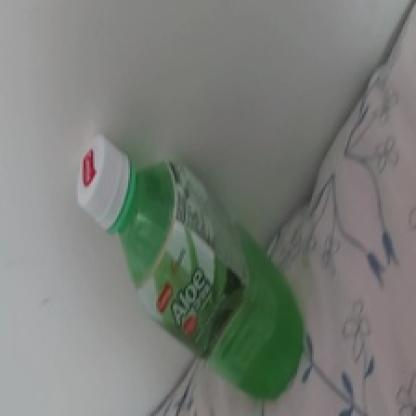plastic_bottles: (68, 137, 312, 388)
